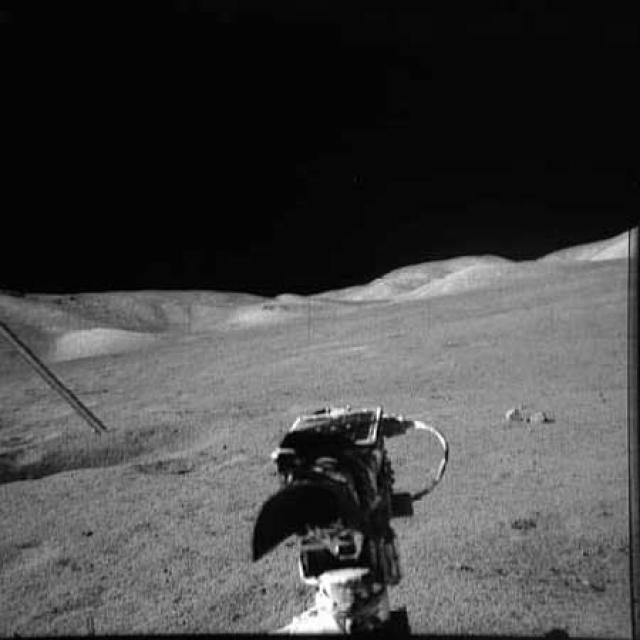artifact: (231, 400, 471, 638), (0, 313, 122, 432)
crater: (0, 409, 224, 483), (496, 494, 630, 538)
rock: (524, 404, 553, 429), (501, 401, 524, 421)
